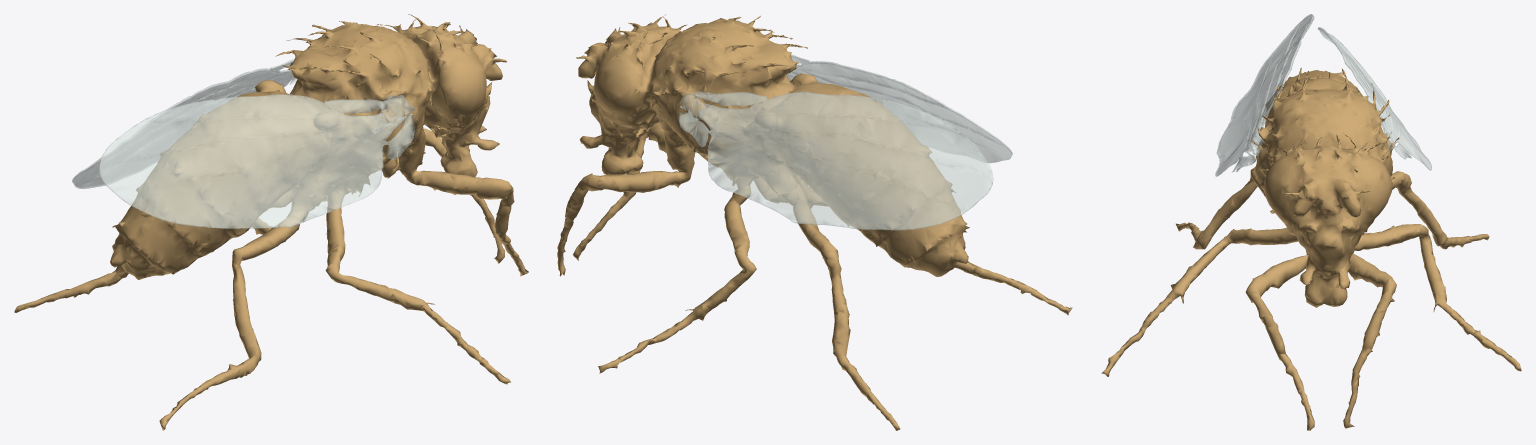
The model's file is drosophila.glb.
3 views of the same model, side by side, from view 1: azimuth 30°, elevation 25°; view 2: azimuth 150°, elevation 25°; view 3: azimuth 270°, elevation 25° (orthographic). The views are drawn at different scales.
Parts seen in each view (by area): view 1: exoskeleton, wing_right, wing_left; view 2: exoskeleton, wing_left, wing_right; view 3: exoskeleton, wing_right, wing_left.
Boxes of the visible parts, box(x1,y1,x2,y2) form: exoskeleton: box(14, 14, 528, 430); wing_right: box(99, 94, 417, 228); wing_left: box(72, 59, 297, 188); exoskeleton: box(557, 14, 1072, 430); wing_left: box(678, 91, 993, 230); wing_right: box(787, 54, 1012, 163); exoskeleton: box(1101, 67, 1521, 430); wing_right: box(1215, 14, 1314, 176); wing_left: box(1318, 27, 1431, 170).
Size of the model in its own units: 2.22 by 1.39 by 1.91.
